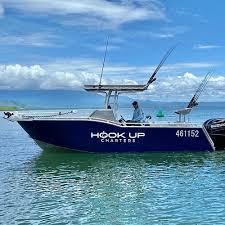fishing boat: (2, 47, 225, 155)
